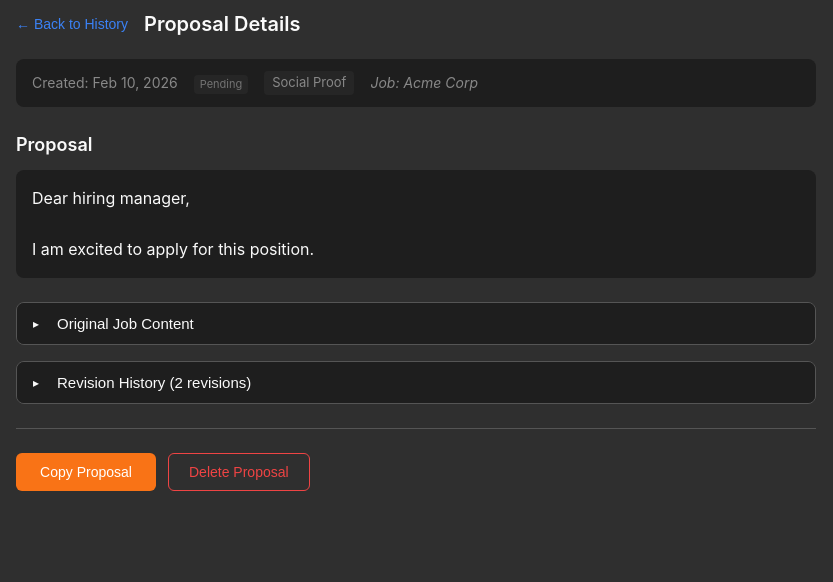
it: ProposalDetailView › expands revision history and loads revisions (AC-4)
The image size is (833, 582).
Click to expand
Click the button "▸ Revision History (2 revisions)". click: {"x": 116, "y": 383}
box: top-left (17, 362), bottom-right (815, 403)
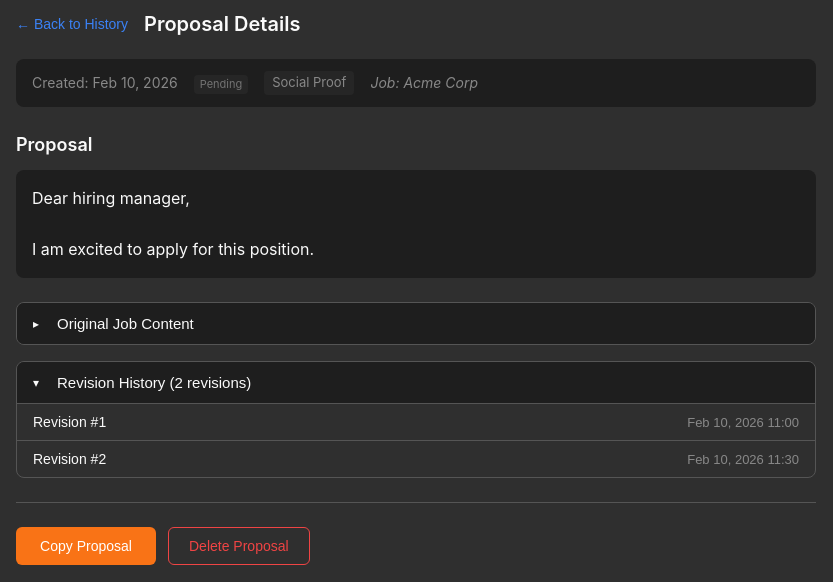
Check: the text "Revision #1" is shown, box top-left (33, 414), bottom-right (106, 430)
Check: the text "Revision #2" is shown, box top-left (33, 451), bottom-right (106, 467)
